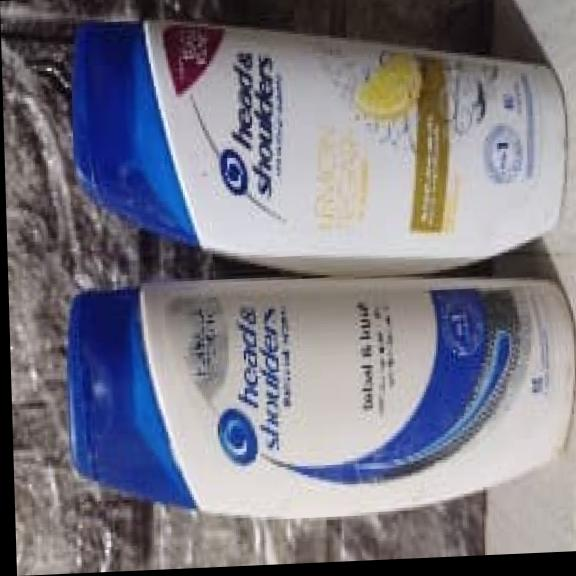Plastik: (59, 3, 576, 515)
